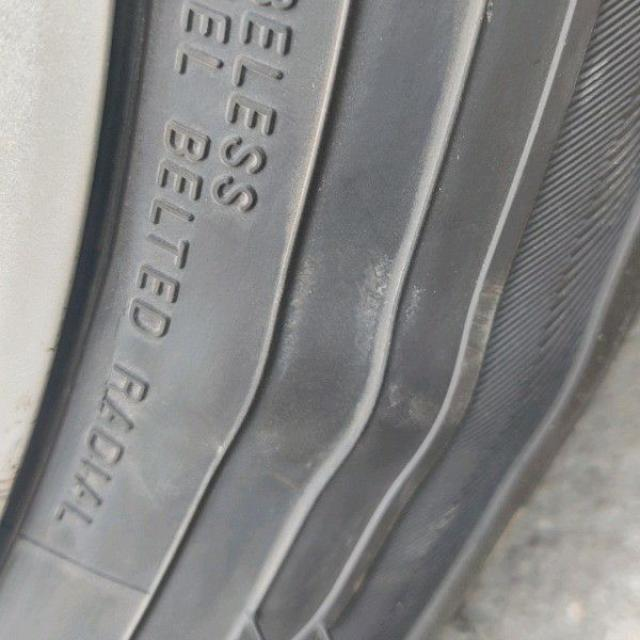Bulge: (246, 262, 576, 458)
